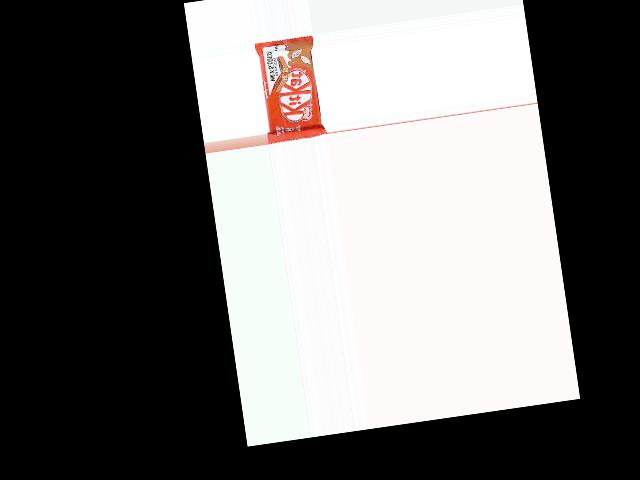chocolate: (253, 34, 326, 143)
